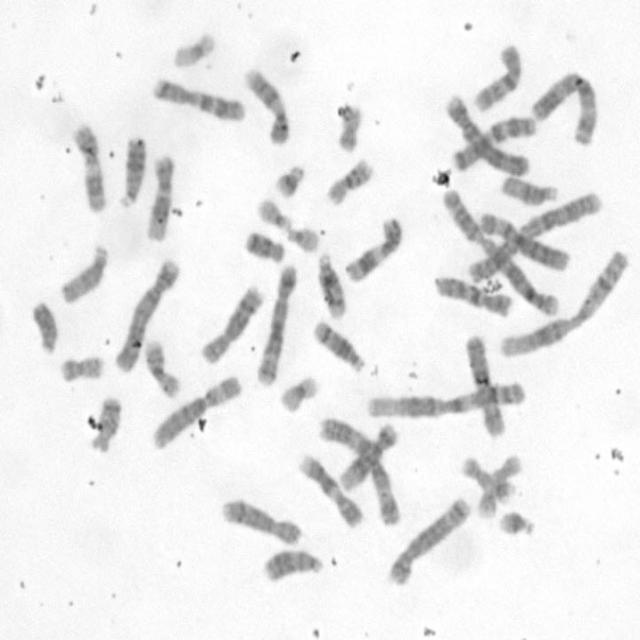A1: (496, 245, 630, 358), (364, 376, 528, 421)
A2: (438, 182, 564, 318), (464, 187, 604, 284)
A3: (316, 413, 402, 527), (528, 67, 600, 147)
B4: (110, 252, 181, 374), (444, 91, 530, 176)
B5: (384, 492, 472, 587), (253, 259, 299, 386)
C10: (468, 39, 524, 114), (431, 270, 515, 318)
C11: (340, 212, 404, 284), (70, 119, 108, 213)
C12: (336, 418, 399, 494), (140, 152, 176, 243)
C6: (149, 370, 242, 450), (476, 206, 573, 273)
C7: (446, 109, 534, 173), (151, 73, 247, 123)
C8: (197, 280, 264, 365), (218, 494, 303, 546)
C9: (295, 449, 365, 529), (242, 64, 290, 145)
D13: (260, 545, 326, 585), (115, 131, 148, 209)
D14: (310, 316, 368, 375), (314, 250, 348, 320)
D15: (57, 238, 111, 306), (497, 171, 560, 207)
E16: (322, 155, 373, 207), (141, 335, 182, 399)
E17: (474, 449, 523, 520), (458, 452, 516, 504)
E18: (87, 392, 124, 453), (241, 226, 287, 264)
F19: (170, 29, 218, 69), (276, 372, 320, 414)
F20: (55, 350, 106, 384), (334, 101, 363, 153)
G21: (270, 159, 308, 201), (494, 505, 538, 538)
G22: (255, 194, 293, 232), (282, 223, 321, 254)
X: (462, 329, 508, 438)
Y: (26, 296, 59, 355)
